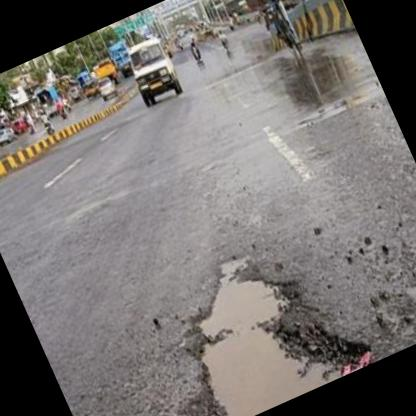pothole: (130, 227, 377, 416)
